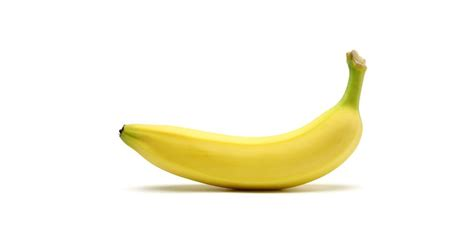banana: (111, 90, 369, 194)
